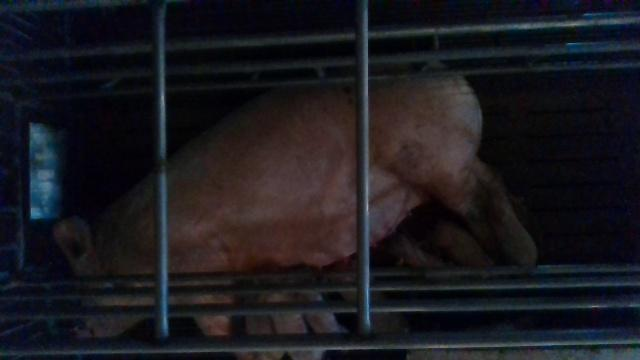piglet: (267, 283, 324, 359), (237, 278, 286, 360), (343, 272, 409, 331), (430, 216, 492, 266), (296, 281, 347, 333), (378, 231, 444, 269)
sow-sleep-lactate: (52, 60, 539, 360)
